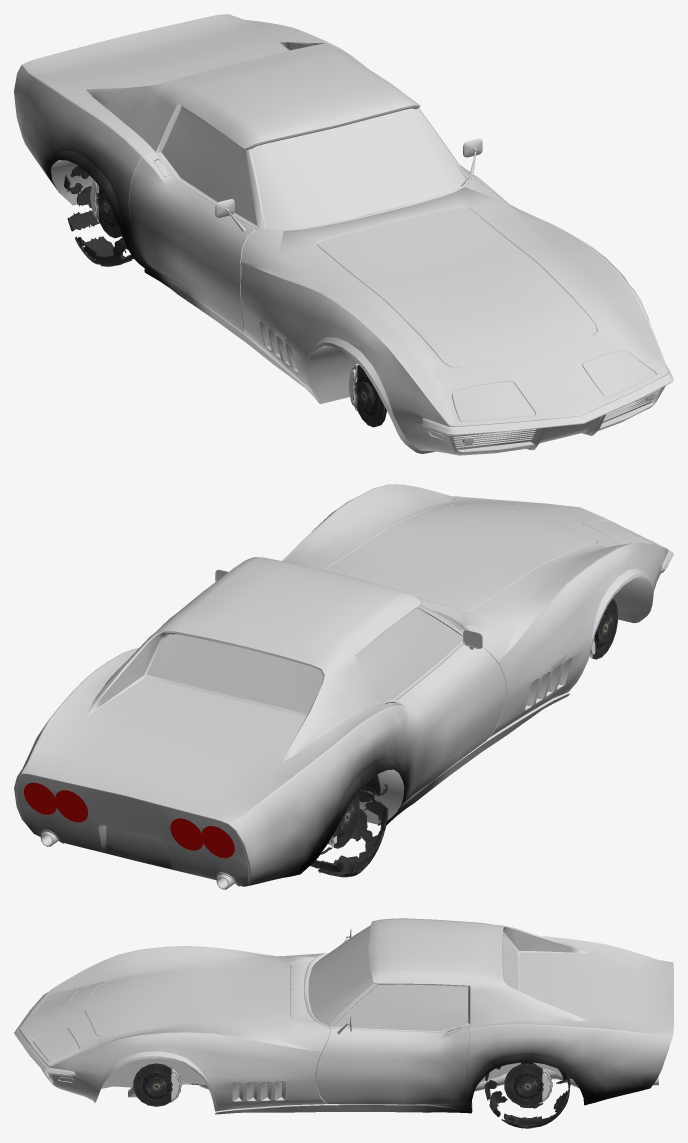
File: 09_Corvette.fbx
3 renders of one model, top to bottom at view 1: azimuth 30°, elevation 25°; view 2: azimuth 150°, elevation 25°; view 3: azimuth 270°, elevation 25°, orthographic. The views are drawn at different scales.
Parts seen in each view (by area): view 1: Body_Duco, Kit_00_Duco, Body_Glass, Body_Chrome, Body_Matte, Rotor (×2); view 2: Body_Duco, Kit_00_Duco, Body_Glass, Body_Matte, BrakeLights, Body_Chrome, Rotor (×2); view 3: Body_Duco, Kit_00_Duco, Body_Glass, Rotor (×2), Body_Matte, Body_Chrome.
Boxes of the visible parts, bbox=[...] form: Body_Duco: bbox=[14, 14, 668, 455]; Kit_00_Duco: bbox=[317, 207, 597, 367]; Body_Glass: bbox=[161, 107, 464, 229]; Body_Chrome: bbox=[153, 106, 673, 453]; Body_Matte: bbox=[51, 160, 659, 449]; Rotor (×2): bbox=[94, 182, 386, 427]; Body_Duco: bbox=[14, 484, 668, 886]; Kit_00_Duco: bbox=[324, 505, 597, 611]; Body_Glass: bbox=[147, 608, 462, 713]; Body_Matte: bbox=[41, 551, 653, 878]; BrakeLights: bbox=[24, 782, 234, 858]; Body_Chrome: bbox=[40, 550, 673, 889]; Rotor (×2): bbox=[329, 598, 617, 848]; Body_Duco: bbox=[19, 918, 673, 1114]; Kit_00_Duco: bbox=[84, 965, 290, 1036]; Body_Glass: bbox=[308, 926, 518, 1031]; Rotor (×2): bbox=[133, 1063, 550, 1106]; Body_Matte: bbox=[101, 1058, 578, 1109]; Body_Chrome: bbox=[14, 925, 658, 1086].
Size of what is drawn, in the model's own units: 1.7 by 1.09 by 4.59.
